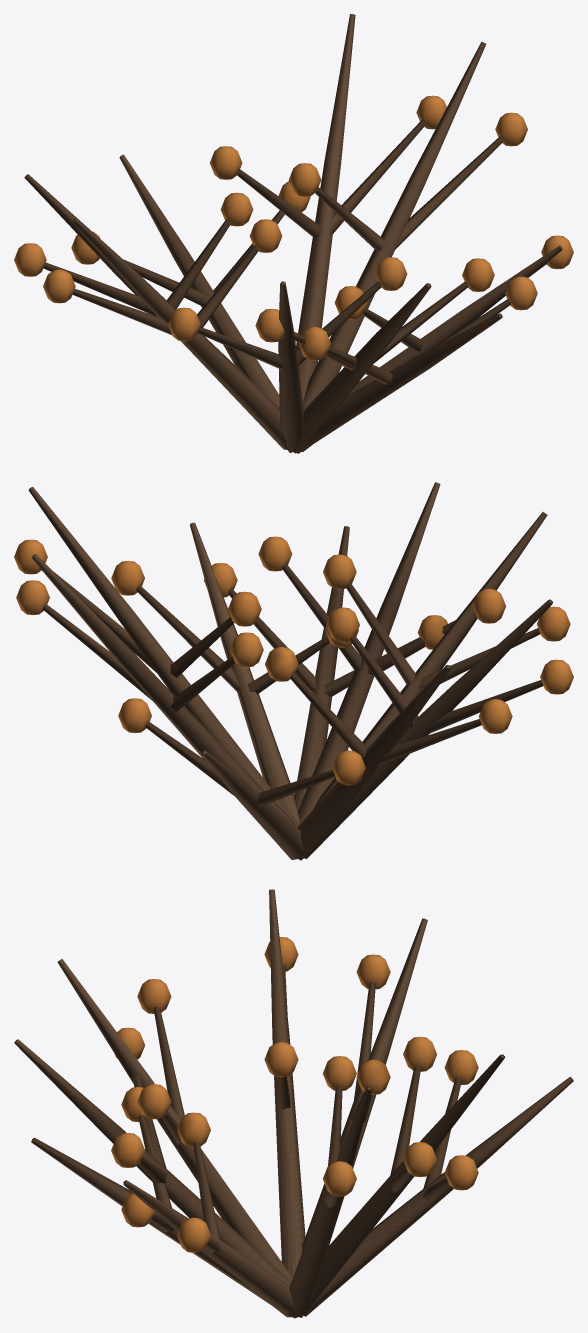
The model's file is winter_shrub.glb.
3 views of the same model, one above another, from view 1: azimuth 30°, elevation 25°; view 2: azimuth 150°, elevation 25°; view 3: azimuth 270°, elevation 25° (orthographic). The views are drawn at different scales.
Parts seen in each view (by area): view 1: winter_shrub; view 2: winter_shrub; view 3: winter_shrub.
Part boxes in pixels (x1=…): winter_shrub: x1=14, y1=14, x2=573, y2=453; winter_shrub: x1=14, y1=482, x2=573, y2=860; winter_shrub: x1=14, y1=889, x2=573, y2=1318.
Bounding box in the file's own units: 0.7819 × 0.4863 × 0.7198.
2 materials, 2 textured.
